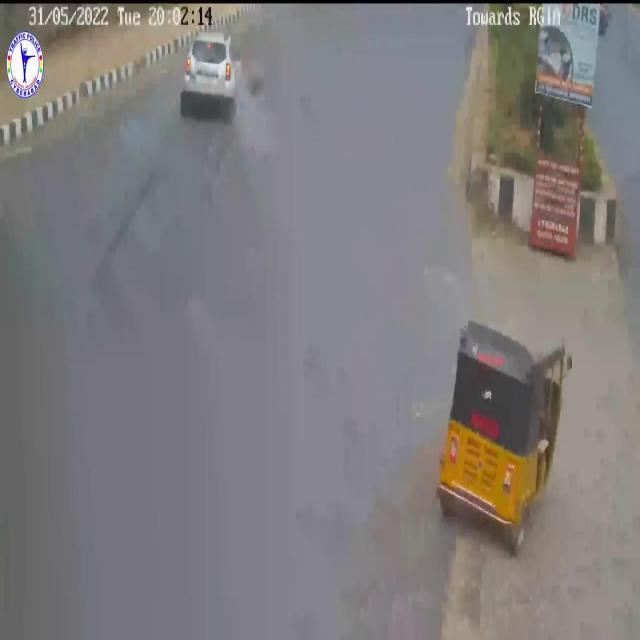accident: (173, 24, 265, 129)
